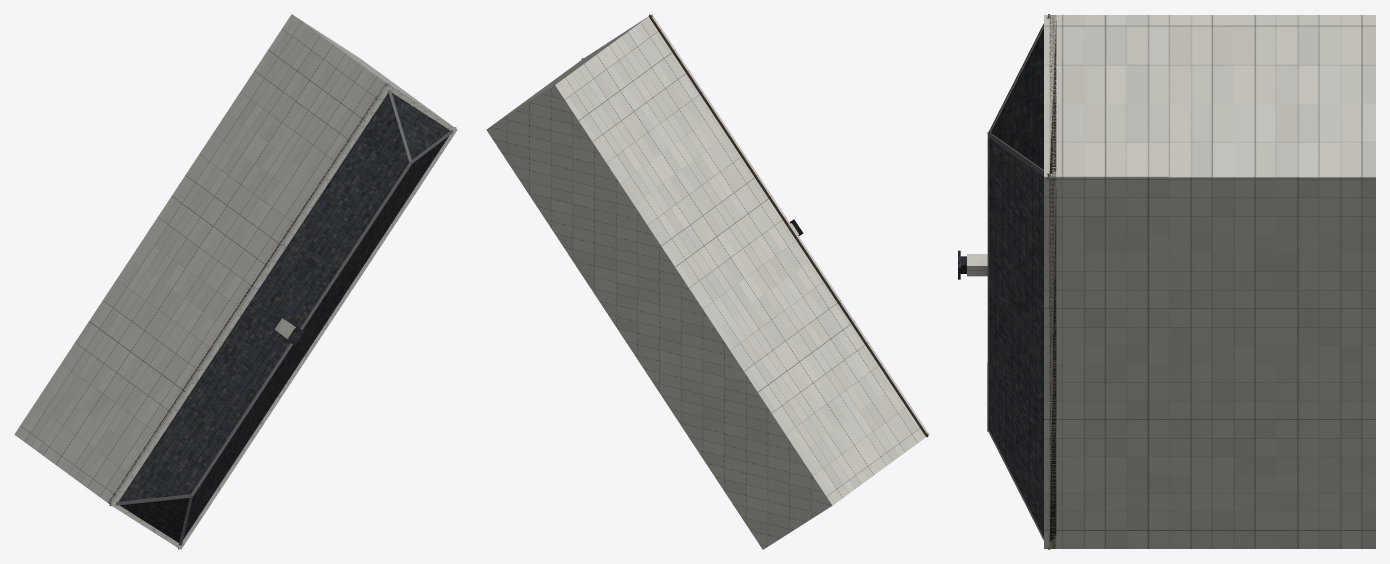
The model's file is house_b0178.obj.
3 views of the same model, side by side, from view 1: azimuth 30°, elevation 25°; view 2: azimuth 150°, elevation 25°; view 3: azimuth 270°, elevation 25° (orthographic). The views are drawn at different scales.
Parts seen in each view (by area): view 1: house_b0178; view 2: house_b0178; view 3: house_b0178.
Boxes of the visible parts, x1,y1,x2,y2 form: house_b0178: [14, 14, 457, 549]; house_b0178: [486, 14, 929, 549]; house_b0178: [958, 14, 1375, 549].
Size of the model in its own units: 23.98 by 27.4 by 14.66.
Materials: 1 (1 with a texture image).
